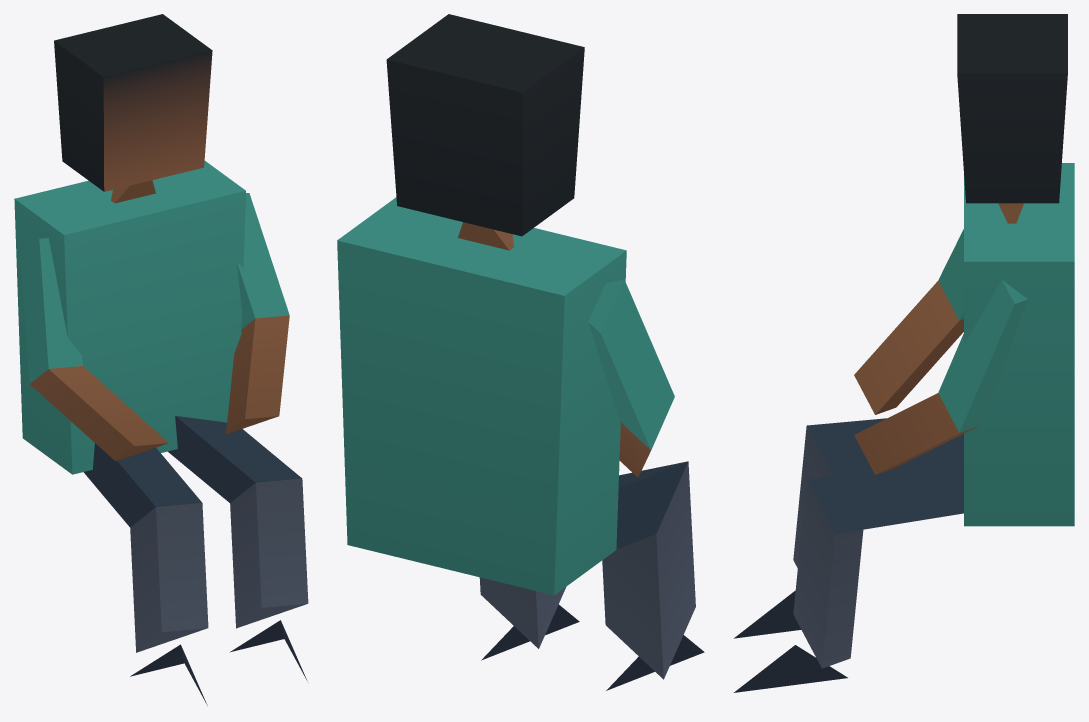
File: fan-02.glb
The picture shows the model from 3 angles, left to right: view 1: azimuth 30°, elevation 25°; view 2: azimuth 150°, elevation 25°; view 3: azimuth 270°, elevation 25°; orthographic projection. The views are drawn at different scales.
Parts seen in each view (by area): view 1: fan-02; view 2: fan-02; view 3: fan-02.
Part boxes in pixels (x1,y1,x2,y2): fan-02: (14,14,308,705); fan-02: (337,14,704,690); fan-02: (734,14,1074,692).
Size of the model in its own units: 0.7275 by 1.55 by 0.77.
